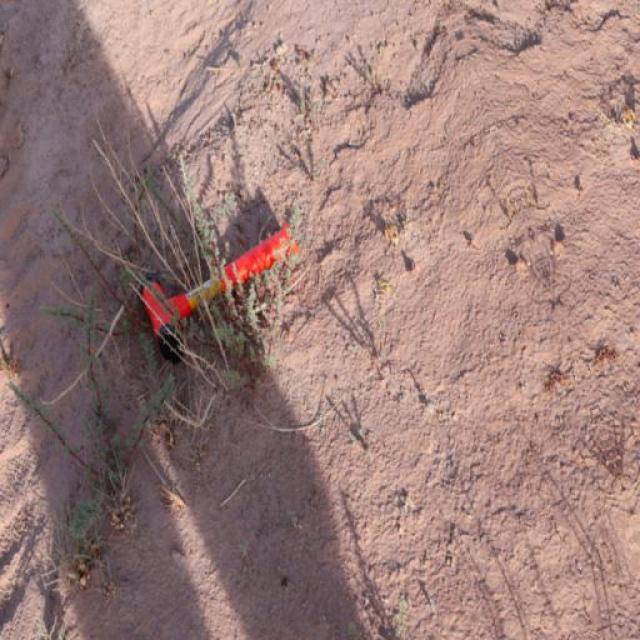mallet: (136, 214, 302, 361)
